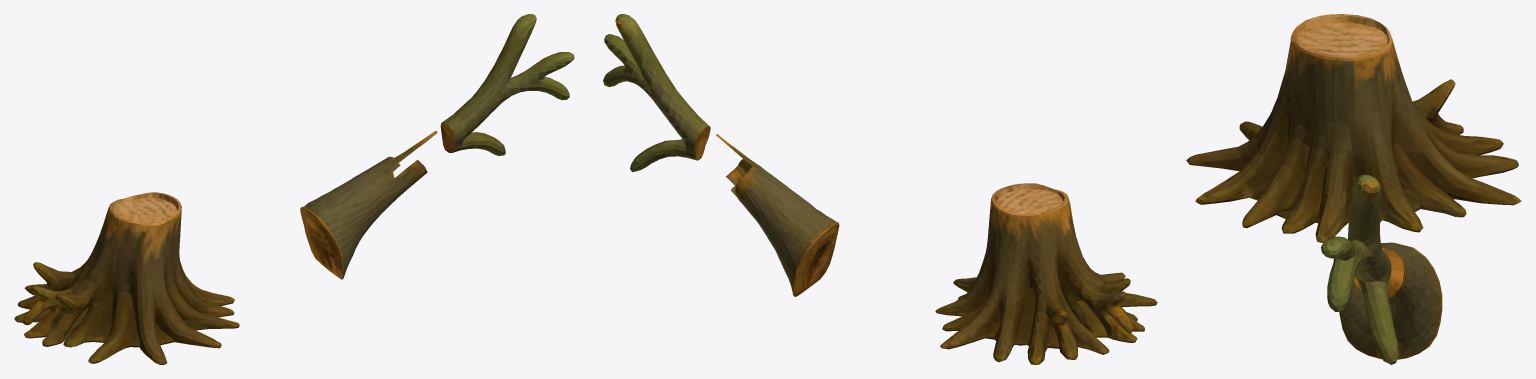
The picture shows the model from 3 angles, left to right: view 1: azimuth 30°, elevation 25°; view 2: azimuth 150°, elevation 25°; view 3: azimuth 270°, elevation 25°; orthographic projection. The views are drawn at different scales.
Visible parts, largest first — view 1: texture_pbr_v128; view 2: texture_pbr_v128; view 3: texture_pbr_v128.
Boxes of the visible parts, x1,y1,x2,y2 form: texture_pbr_v128: (14, 14, 574, 364); texture_pbr_v128: (603, 14, 1157, 364); texture_pbr_v128: (1186, 14, 1521, 364).
Size of the model in its own units: 1.15 by 0.4522 by 0.4428.
Materials: 1 (1 with a texture image).
